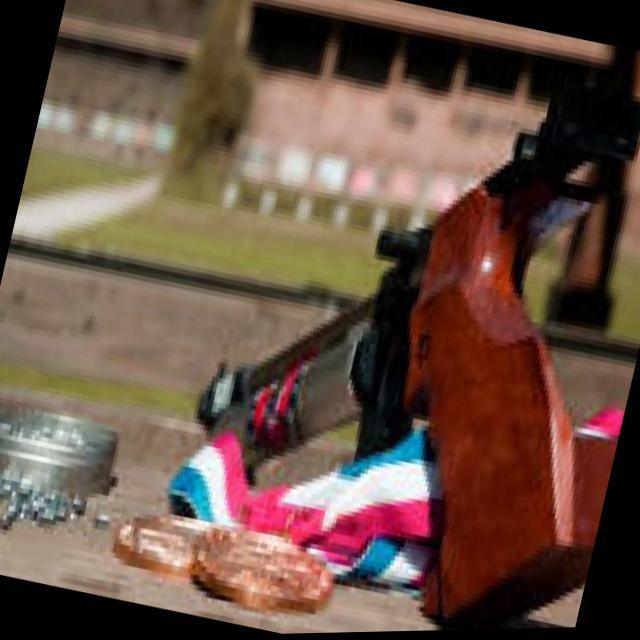weapon: (153, 5, 640, 638)
